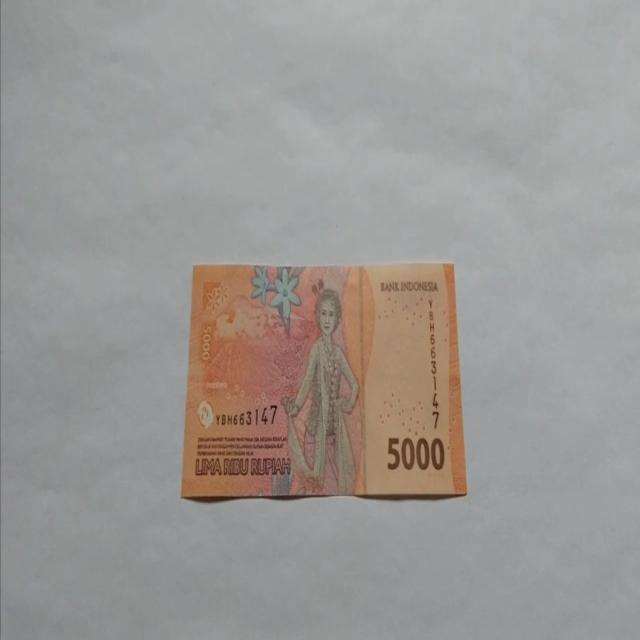lima ribu rupiah: (180, 260, 467, 502), (280, 287, 360, 496)
